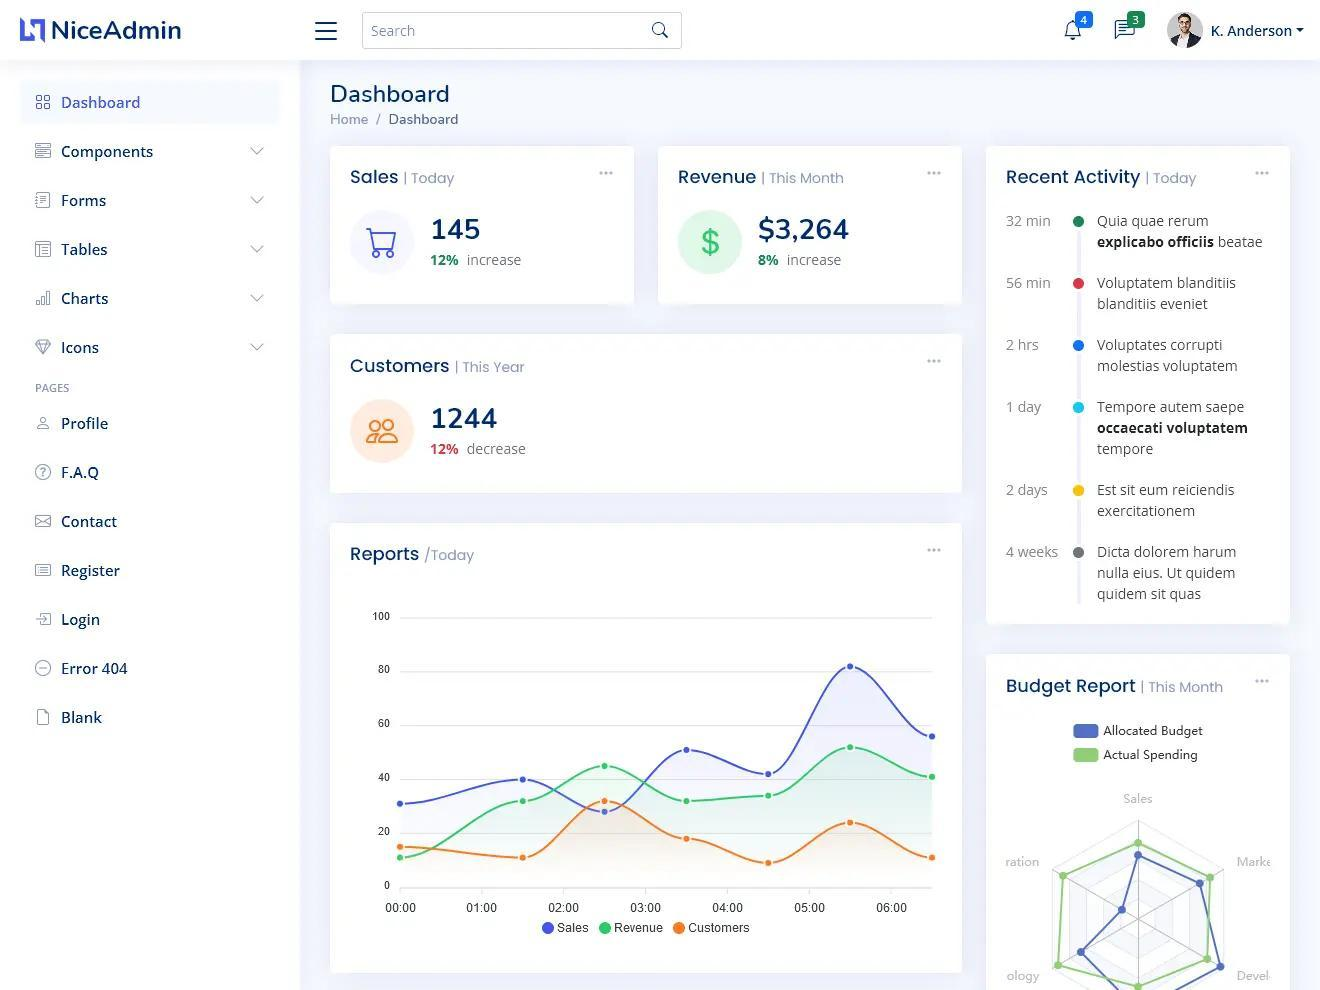icon: (361, 411, 407, 451), (363, 224, 403, 261), (1059, 12, 1097, 48), (14, 14, 48, 51), (308, 15, 345, 47), (1111, 11, 1146, 44), (699, 225, 725, 267), (34, 94, 56, 118), (34, 238, 55, 263), (32, 559, 55, 581), (32, 140, 54, 163), (34, 706, 55, 730), (35, 412, 56, 435), (34, 510, 54, 533), (35, 608, 57, 629), (34, 657, 55, 679), (33, 289, 53, 311), (34, 191, 54, 212), (926, 353, 947, 371), (34, 337, 53, 358), (37, 461, 55, 481), (1255, 166, 1274, 184), (1253, 675, 1274, 692), (924, 166, 947, 181), (596, 167, 617, 182), (927, 543, 946, 559)
input: (364, 12, 683, 51)
label: (62, 660, 132, 681), (59, 562, 128, 582), (61, 514, 122, 533), (61, 415, 115, 434), (32, 379, 75, 400), (60, 708, 105, 729), (61, 463, 106, 481), (61, 613, 105, 630)
